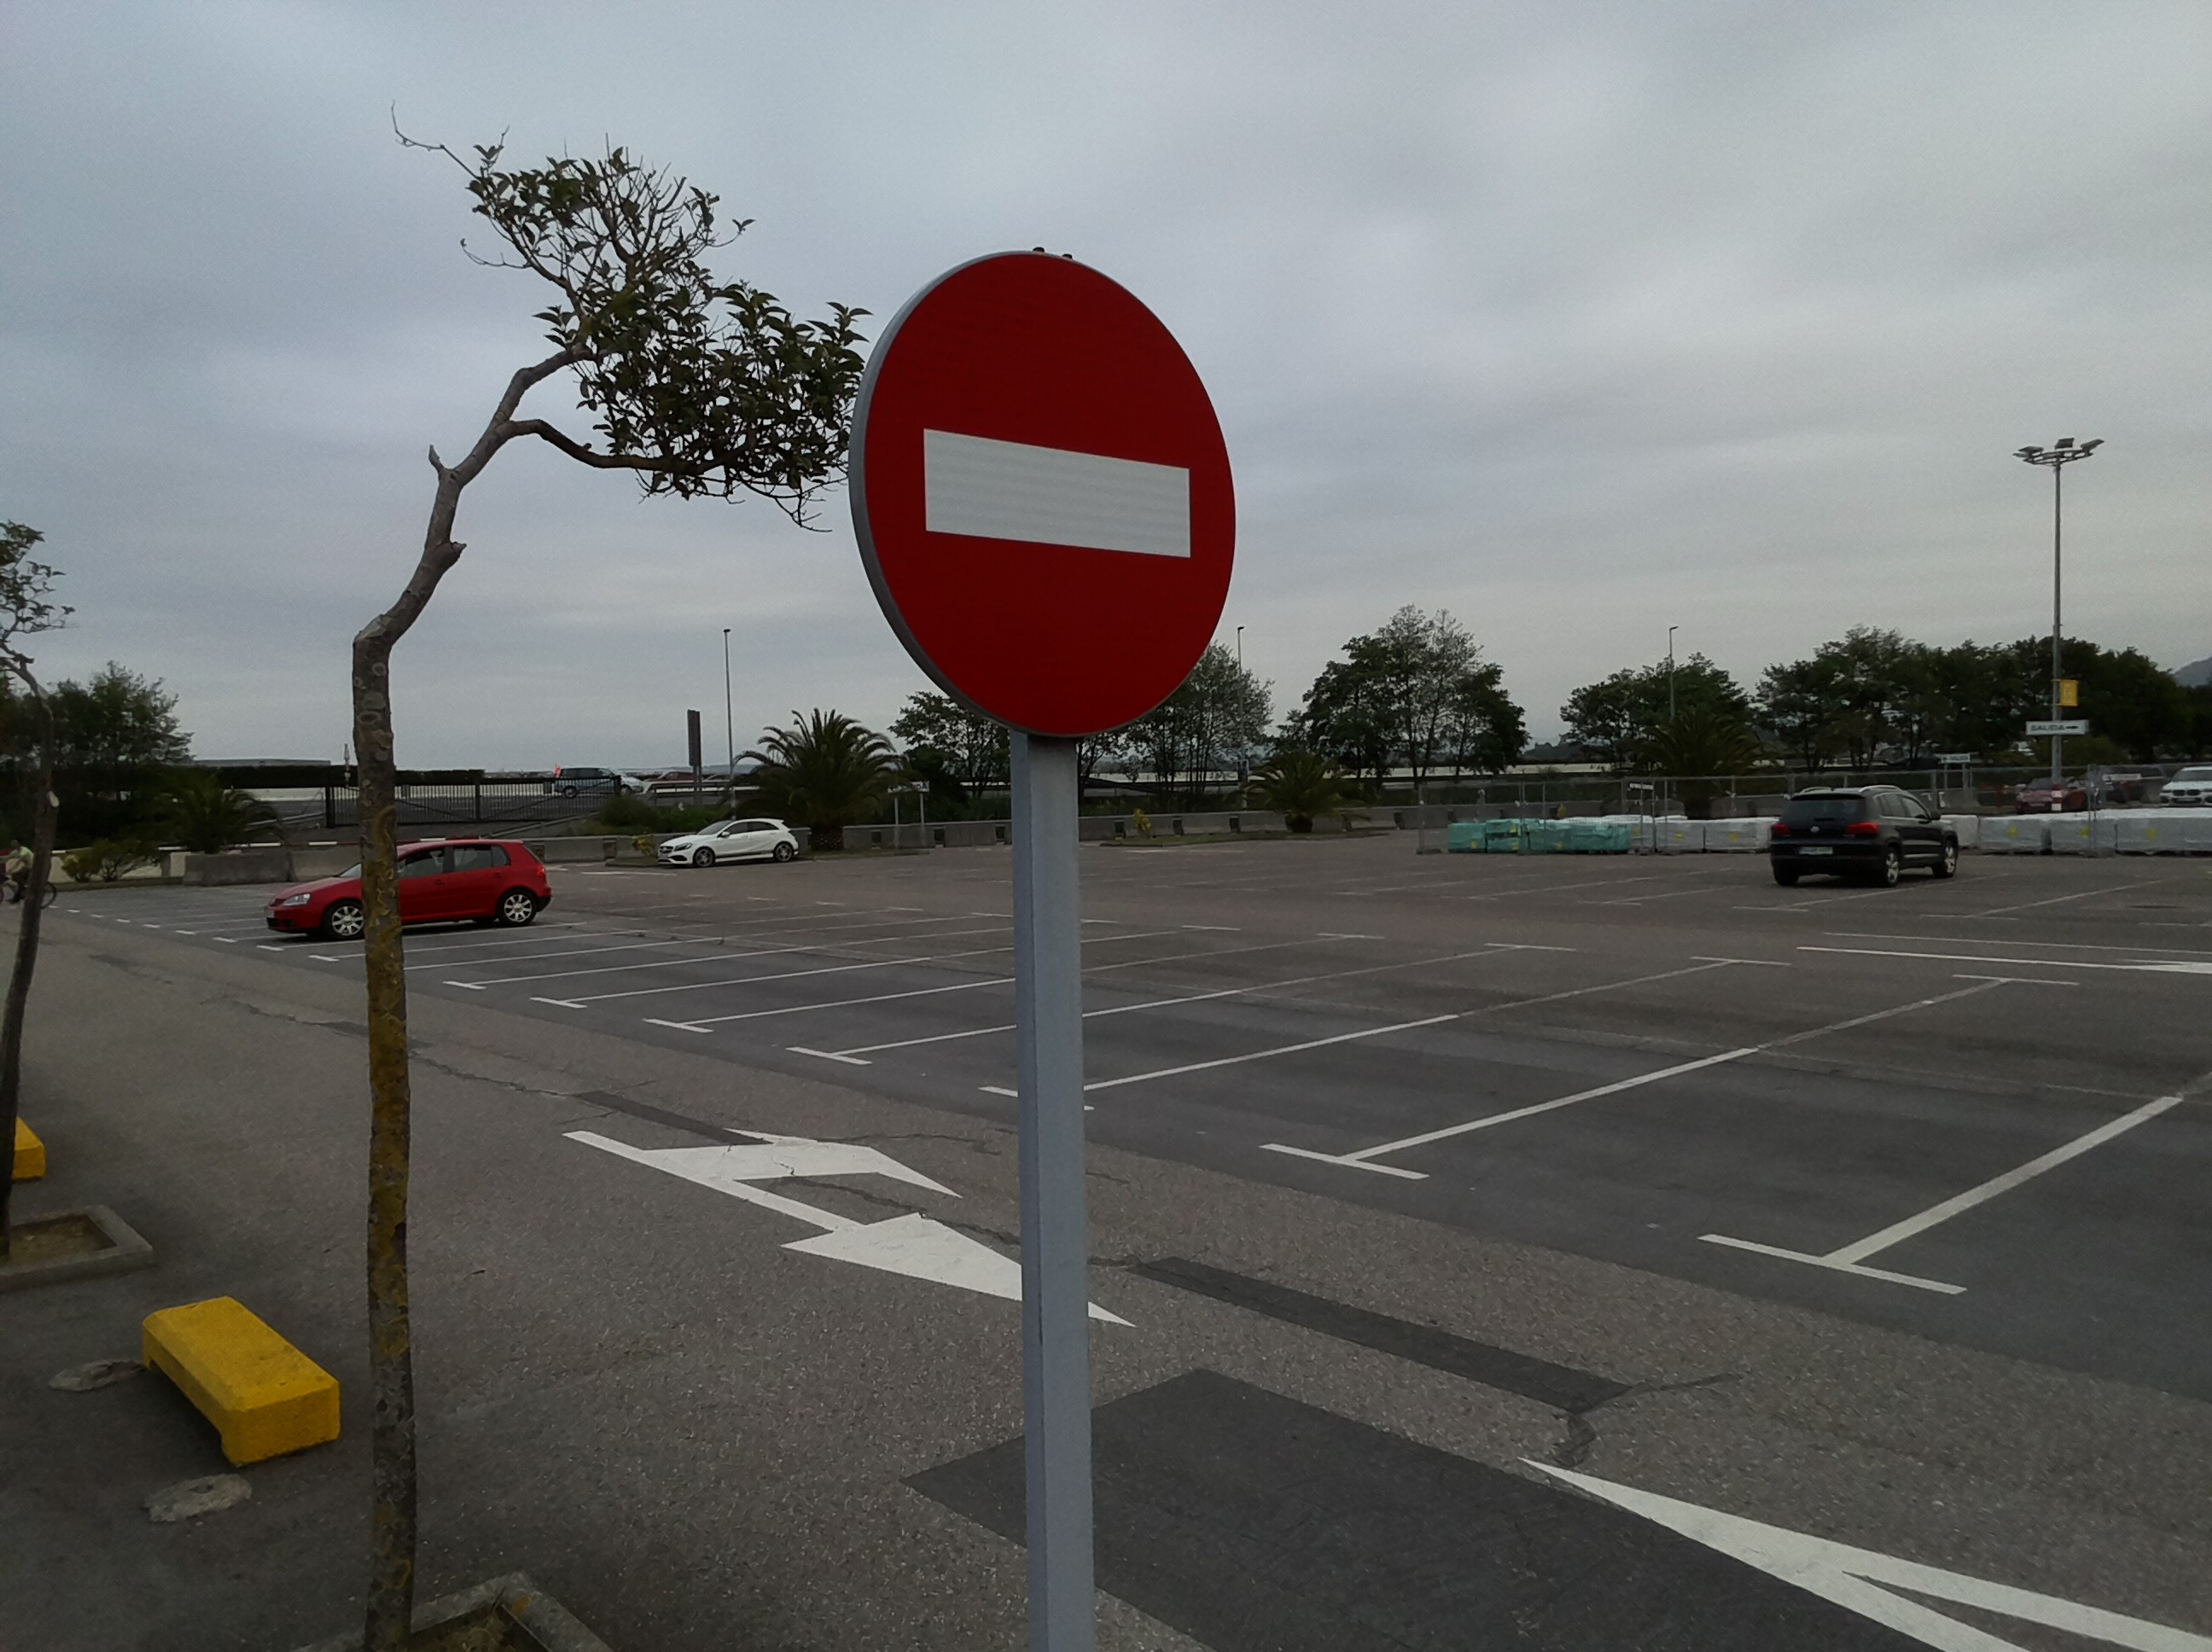Arbol: (293, 420, 505, 1650), (383, 118, 859, 559)
Cartel: (822, 227, 1258, 757)
Poste: (985, 708, 1114, 1652)
